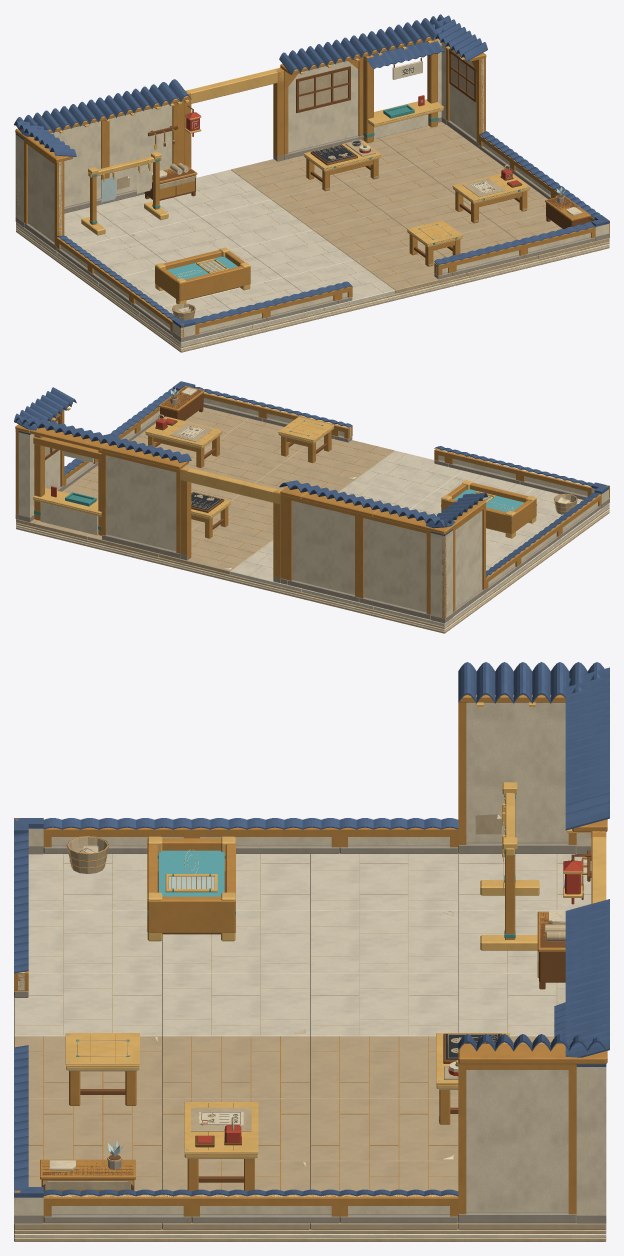
The model's file is 首关_开张第一单_v02_20261110.glb.
The picture shows the model from 3 angles, top to bottom: view 1: azimuth 30°, elevation 25°; view 2: azimuth 150°, elevation 25°; view 3: azimuth 270°, elevation 25°; orthographic projection. The views are drawn at different scales.
Parts seen in each view (by area): view 1: wall_back_01_paper_panel, wall_back_03_paper_panel, env_floor_courtyard_02_02_slab, env_floor_courtyard_02_01_slab, env_floor_workshop_03_02_slab, env_floor_workshop_04_02_slab, env_floor_workshop_03_01_slab, env_floor_courtyard_01_02_slab, wall_back_00_paper_panel, env_floor_workshop_03_00_slab, env_floor_workshop_03_03_slab, env_floor_courtyard_02_03_slab (+54 smaller); view 2: wall_back_03_paper_panel, wall_back_01_paper_panel, wall_back_00_paper_panel, env_floor_courtyard_02_00_slab, env_floor_workshop_03_03_slab, env_floor_workshop_03_00_slab, wall_left_back_paper_panel, env_floor_workshop_04_00_slab, env_floor_workshop_03_02_slab, corner_back_left_paper_L, env_floor_workshop_04_01_slab, foundation_layer_0 (+60 smaller); view 3: wall_right_back_paper_panel, wall_left_back_paper_panel, env_floor_courtyard_02_01_slab, env_floor_courtyard_02_02_slab, env_floor_courtyard_01_02_slab, env_floor_workshop_03_01_slab, env_floor_workshop_04_02_slab, env_floor_courtyard_02_00_slab, env_floor_courtyard_00_02_slab, env_floor_workshop_03_02_slab, env_floor_workshop_04_00_slab, env_floor_courtyard_01_00_slab (+69 smaller).
Boxes of the visible parts, x1,y1,x2,y2 form: wall_back_01_paper_panel: [109, 104, 172, 194]; wall_back_03_paper_panel: [288, 61, 358, 152]; env_floor_courtyard_02_02_slab: [200, 200, 311, 247]; env_floor_courtyard_02_01_slab: [242, 230, 353, 277]; env_floor_workshop_03_02_slab: [272, 182, 383, 229]; env_floor_workshop_04_02_slab: [343, 165, 454, 212]; env_floor_workshop_03_01_slab: [313, 212, 422, 260]; env_floor_courtyard_01_02_slab: [129, 217, 240, 262]; wall_back_00_paper_panel: [50, 121, 100, 207]; env_floor_workshop_03_00_slab: [354, 243, 466, 293]; env_floor_workshop_03_03_slab: [231, 155, 342, 199]; env_floor_courtyard_02_03_slab: [173, 169, 270, 217]; wall_back_03_paper_panel: [106, 455, 176, 551]; wall_back_01_paper_panel: [292, 500, 354, 595]; wall_back_00_paper_panel: [364, 518, 426, 612]; env_floor_courtyard_02_00_slab: [354, 450, 462, 498]; env_floor_workshop_03_03_slab: [159, 524, 270, 574]; env_floor_workshop_03_00_slab: [283, 436, 394, 480]; wall_left_back_paper_panel: [455, 511, 482, 608]; env_floor_workshop_04_00_slab: [220, 418, 305, 463]; env_floor_workshop_03_02_slab: [200, 495, 273, 541]; corner_back_left_paper_L: [430, 530, 452, 618]; env_floor_workshop_04_01_slab: [184, 446, 282, 483]; foundation_layer_0: [16, 506, 609, 629]; wall_right_back_paper_panel: [466, 1070, 568, 1212]; wall_left_back_paper_panel: [466, 702, 568, 843]; env_floor_courtyard_02_01_slab: [162, 973, 309, 1036]; env_floor_courtyard_02_02_slab: [310, 973, 458, 1036]; env_floor_courtyard_01_02_slab: [310, 911, 458, 973]; env_floor_workshop_03_01_slab: [162, 1036, 309, 1099]; env_floor_workshop_04_02_slab: [310, 1098, 458, 1161]; env_floor_courtyard_02_00_slab: [14, 973, 161, 1036]; env_floor_courtyard_00_02_slab: [310, 853, 458, 911]; env_floor_workshop_03_02_slab: [310, 1036, 458, 1099]; env_floor_workshop_04_00_slab: [28, 1098, 161, 1161]; env_floor_courtyard_01_00_slab: [28, 911, 161, 973].
Size of the model in its own units: 12.1 by 3.03 by 8.05.
Materials: 15 (12 with a texture image).
